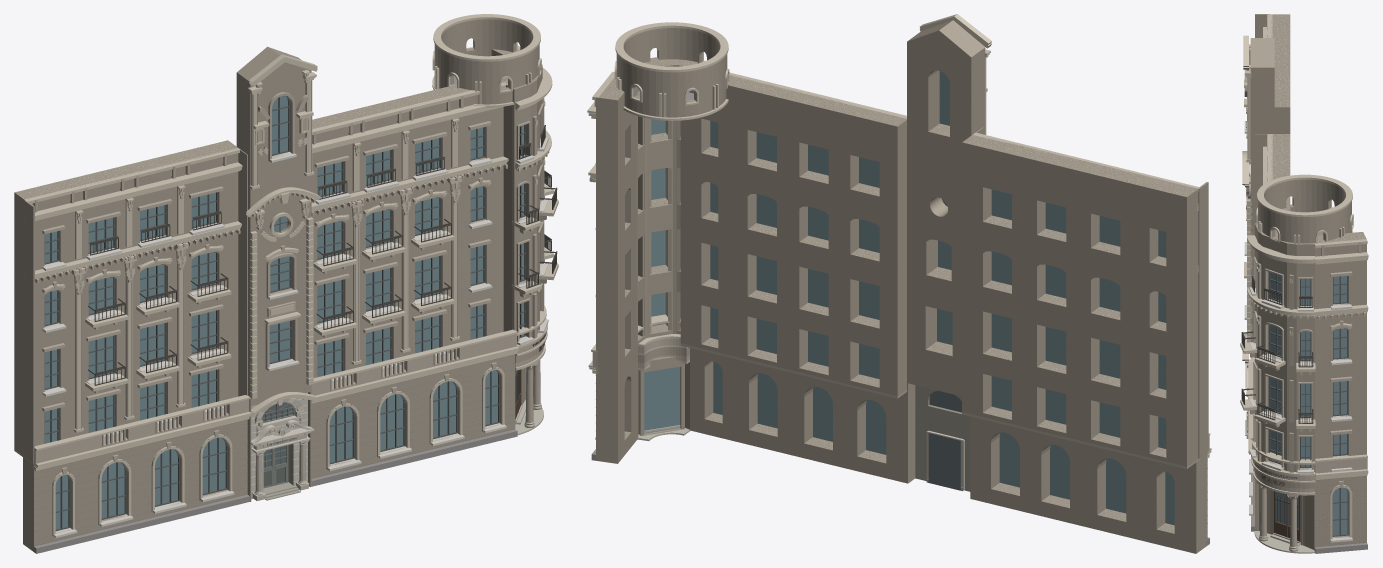
File: huangpu-somekh-building-street-corner-lod.glb
The picture shows the model from 3 angles, left to right: view 1: azimuth 30°, elevation 25°; view 2: azimuth 150°, elevation 25°; view 3: azimuth 270°, elevation 25°; orthographic projection. The views are drawn at different scales.
Parts seen in each view (by area): view 1: 沙美大楼北京东路主立面与四川中路转角; view 2: 沙美大楼北京东路主立面与四川中路转角; view 3: 沙美大楼北京东路主立面与四川中路转角.
Boxes of the visible parts, x1,y1,x2,y2 form: 沙美大楼北京东路主立面与四川中路转角: [14, 14, 558, 553]; 沙美大楼北京东路主立面与四川中路转角: [587, 14, 1211, 553]; 沙美大楼北京东路主立面与四川中路转角: [1240, 14, 1368, 553].
Bounding box in the file's own units: 38.7 × 30.01 × 8.86.
Materials: 23 (1 with a texture image).
